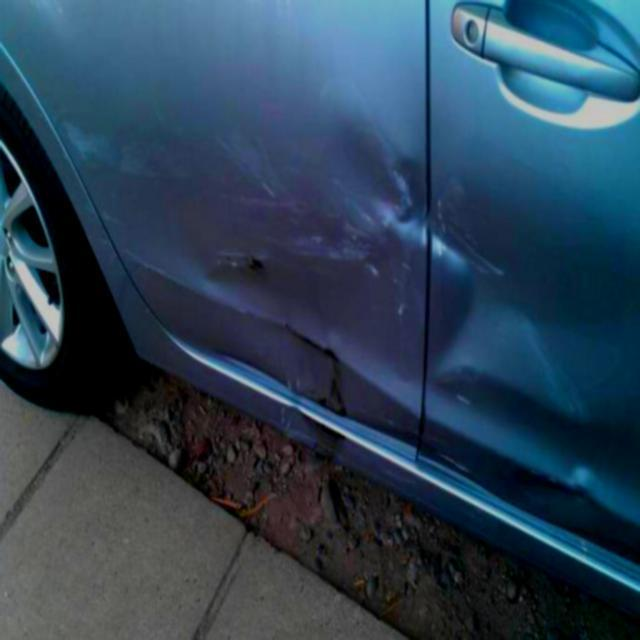minor: (428, 203, 588, 411), (262, 126, 417, 288), (257, 320, 349, 416)
